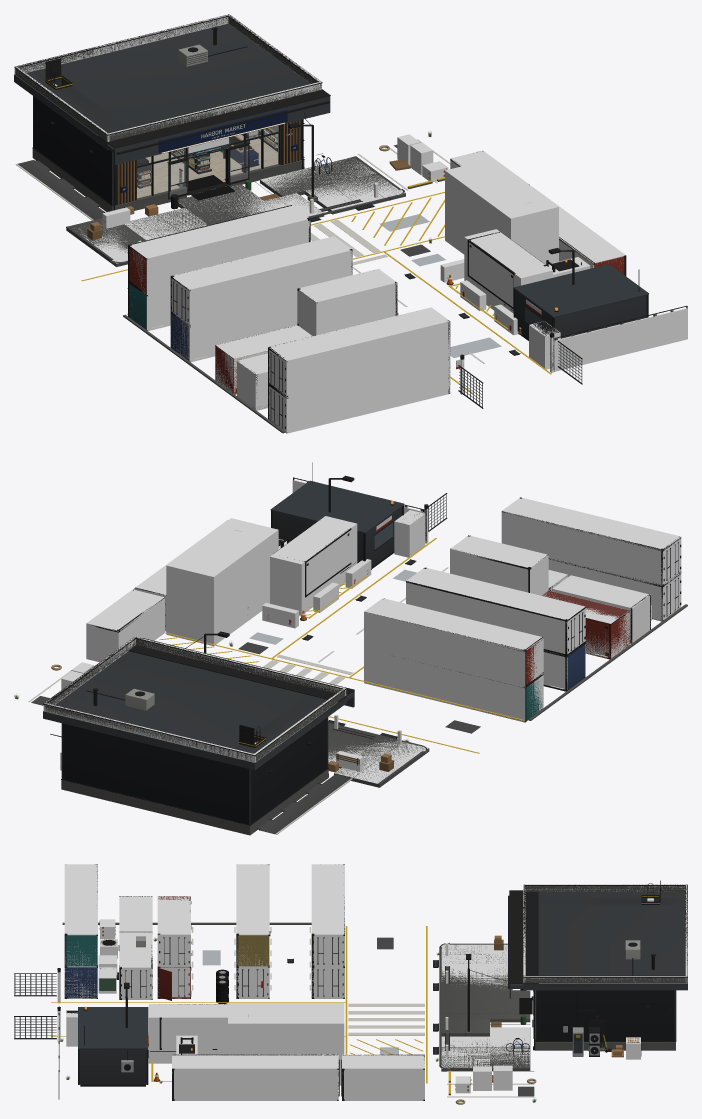
File: container-bd.glb
3 views of the same model, one above another, from view 1: azimuth 30°, elevation 25°; view 2: azimuth 150°, elevation 25°; view 3: azimuth 270°, elevation 25° (orthographic). The views are drawn at different scales.
Visible parts, largest first — view 1: MESH_CONTAINER_BD_CONTAINER_STEEL_LOD0, MESH_CONTAINER_BD_BD_PALETTE_LOD0, MESH_CONTAINER_BD_CONCRETE_YARD_LOD0, MESH_CONTAINER_BD_STEEL_DARK_LOD0, COL_MOVE_CONTAINER_BD_CONT_S1_U, COL_MOVE_CONTAINER_BD_CONT_W2_U, COL_MOVE_CONTAINER_BD_HANDLER, COL_MOVE_CONTAINER_BD_CONT_W1_U, COL_MOVE_CONTAINER_BD_CONT_S1_L, COL_MOVE_CONTAINER_BD_CONT_W3_U, COL_MOVE_CONTAINER_BD_FENCE_S, COL_MOVE_CONTAINER_BD_TRAILER_T1 (+18 smaller); view 2: MESH_CONTAINER_BD_CONTAINER_STEEL_LOD0, MESH_CONTAINER_BD_BD_PALETTE_LOD0, COL_MOVE_CONTAINER_BD_HANDLER, MESH_CONTAINER_BD_CONCRETE_YARD_LOD0, COL_MOVE_CONTAINER_BD_CONT_S1_U, COL_MOVE_CONTAINER_BD_CONT_W1_U, MESH_CONTAINER_BD_STEEL_DARK_LOD0, COL_MOVE_CONTAINER_BD_CONT_W2_U, COL_MOVE_CONTAINER_BD_CONT_W1_L, COL_MOVE_CONTAINER_BD_TRAILER_T1, COL_MOVE_CONTAINER_BD_CONT_W3_U, COL_MOVE_CONTAINER_BD_CONT_E2 (+11 smaller); view 3: MESH_CONTAINER_BD_CONTAINER_STEEL_LOD0, MESH_CONTAINER_BD_BD_PALETTE_LOD0, MESH_CONTAINER_BD_CONCRETE_YARD_LOD0, MESH_CONTAINER_BD_STEEL_DARK_LOD0, COL_MOVE_CONTAINER_BD_CONT_E1, COL_MOVE_CONTAINER_BD_HANDLER, COL_MOVE_CONTAINER_BD_TRAILER_T1, COL_MOVE_CONTAINER_BD_CONT_E2, COL_MOVE_CONTAINER_BD_CONT_W1_U, COL_MOVE_CONTAINER_BD_CONT_S1_U, COL_MOVE_CONTAINER_BD_CONT_W2_U, COL_MOVE_CONTAINER_BD_CONT_W3_U (+16 smaller).
Boxes of the visible parts, left/top/right/bottom form: MESH_CONTAINER_BD_CONTAINER_STEEL_LOD0: left=14, top=23, right=646, bottom=410; MESH_CONTAINER_BD_BD_PALETTE_LOD0: left=15, top=27, right=648, bottom=428; MESH_CONTAINER_BD_CONCRETE_YARD_LOD0: left=15, top=17, right=444, bottom=433; MESH_CONTAINER_BD_STEEL_DARK_LOD0: left=14, top=14, right=687, bottom=432; COL_MOVE_CONTAINER_BD_CONT_S1_U: left=268, top=307, right=450, bottom=397; COL_MOVE_CONTAINER_BD_CONT_W2_U: left=171, top=236, right=352, bottom=326; COL_MOVE_CONTAINER_BD_HANDLER: left=445, top=159, right=558, bottom=264; COL_MOVE_CONTAINER_BD_CONT_W1_U: left=130, top=205, right=310, bottom=294; COL_MOVE_CONTAINER_BD_CONT_S1_L: left=268, top=358, right=450, bottom=433; COL_MOVE_CONTAINER_BD_CONT_W3_U: left=297, top=269, right=397, bottom=335; COL_MOVE_CONTAINER_BD_FENCE_S: left=554, top=308, right=687, bottom=371; COL_MOVE_CONTAINER_BD_TRAILER_T1: left=464, top=229, right=552, bottom=313; MESH_CONTAINER_BD_CONTAINER_STEEL_LOD0: left=43, top=507, right=632, bottom=824; MESH_CONTAINER_BD_BD_PALETTE_LOD0: left=28, top=475, right=681, bottom=834; COL_MOVE_CONTAINER_BD_HANDLER: left=166, top=518, right=278, bottom=646; MESH_CONTAINER_BD_CONCRETE_YARD_LOD0: left=43, top=604, right=687, bottom=835; COL_MOVE_CONTAINER_BD_CONT_S1_U: left=501, top=497, right=681, bottom=585; COL_MOVE_CONTAINER_BD_CONT_W1_U: left=364, top=598, right=543, bottom=686; MESH_CONTAINER_BD_STEEL_DARK_LOD0: left=43, top=462, right=681, bottom=829; COL_MOVE_CONTAINER_BD_CONT_W2_U: left=406, top=567, right=585, bottom=653; COL_MOVE_CONTAINER_BD_CONT_W1_L: left=364, top=647, right=543, bottom=722; COL_MOVE_CONTAINER_BD_TRAILER_T1: left=270, top=516, right=357, bottom=615; COL_MOVE_CONTAINER_BD_CONT_W3_U: left=450, top=535, right=548, bottom=595; COL_MOVE_CONTAINER_BD_CONT_E2: left=86, top=589, right=164, bottom=662; MESH_CONTAINER_BD_CONTAINER_STEEL_LOD0: left=65, top=892, right=687, bottom=1084; MESH_CONTAINER_BD_BD_PALETTE_LOD0: left=51, top=864, right=675, bottom=1104; MESH_CONTAINER_BD_CONCRETE_YARD_LOD0: left=62, top=886, right=687, bottom=1095; MESH_CONTAINER_BD_STEEL_DARK_LOD0: left=14, top=864, right=687, bottom=1100; COL_MOVE_CONTAINER_BD_CONT_E1: left=172, top=1054, right=338, bottom=1100; COL_MOVE_CONTAINER_BD_HANDLER: left=228, top=1003, right=344, bottom=1085; COL_MOVE_CONTAINER_BD_TRAILER_T1: left=148, top=1004, right=227, bottom=1063; COL_MOVE_CONTAINER_BD_CONT_E2: left=342, top=1054, right=424, bottom=1100; COL_MOVE_CONTAINER_BD_CONT_W1_U: left=311, top=864, right=344, bottom=966; COL_MOVE_CONTAINER_BD_CONT_S1_U: left=64, top=864, right=97, bottom=966; COL_MOVE_CONTAINER_BD_CONT_W2_U: left=236, top=864, right=269, bottom=966; COL_MOVE_CONTAINER_BD_CONT_W3_U: left=157, top=899, right=190, bottom=966.
Size of what is drawn, in the model's own units: 31.36 by 7.22 by 49.28.
15 materials, 11 textured.
